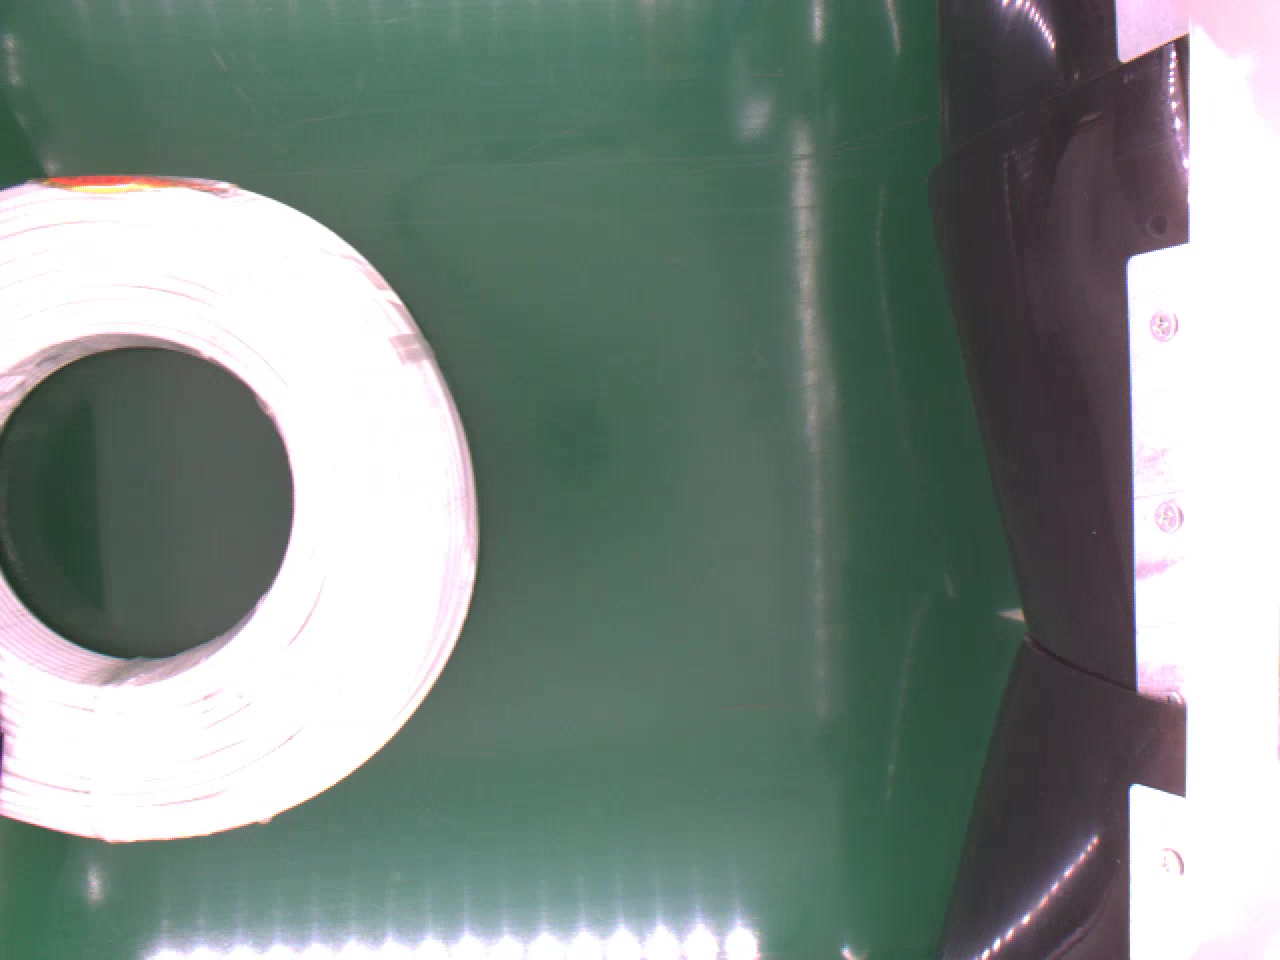white: (0, 170, 484, 843)
